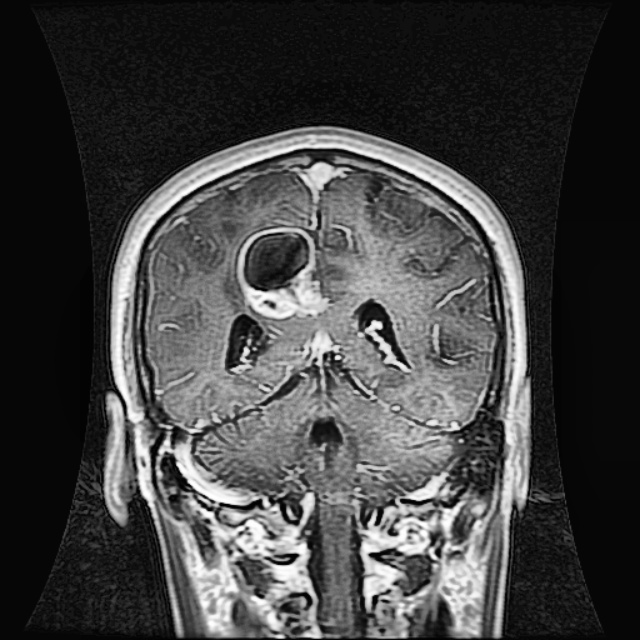Meningioma: (233, 222, 335, 319)
